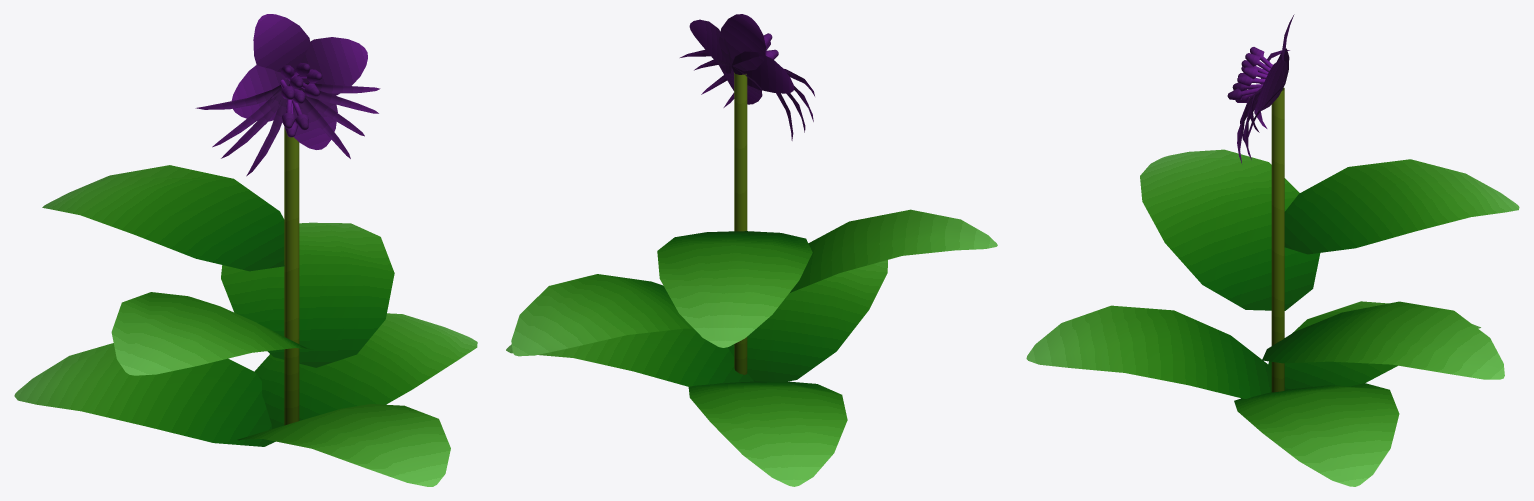
The model's file is SM_BlackBat.fbx.
The picture shows the model from 3 angles, left to right: view 1: azimuth 30°, elevation 25°; view 2: azimuth 150°, elevation 25°; view 3: azimuth 270°, elevation 25°; orthographic projection. The views are drawn at different scales.
Parts seen in each view (by area): view 1: SM_BlackBat; view 2: SM_BlackBat; view 3: SM_BlackBat.
Part boxes in pixels (x1=…): SM_BlackBat: x1=14, y1=14, x2=477, y2=486; SM_BlackBat: x1=506, y1=14, x2=997, y2=486; SM_BlackBat: x1=1026, y1=14, x2=1519, y2=486.
Bounding box in the file's own units: 233 × 209 × 246.
1 material, 1 textured.
